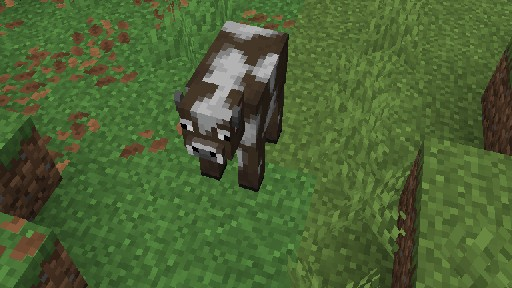cow: (173, 19, 289, 192)
